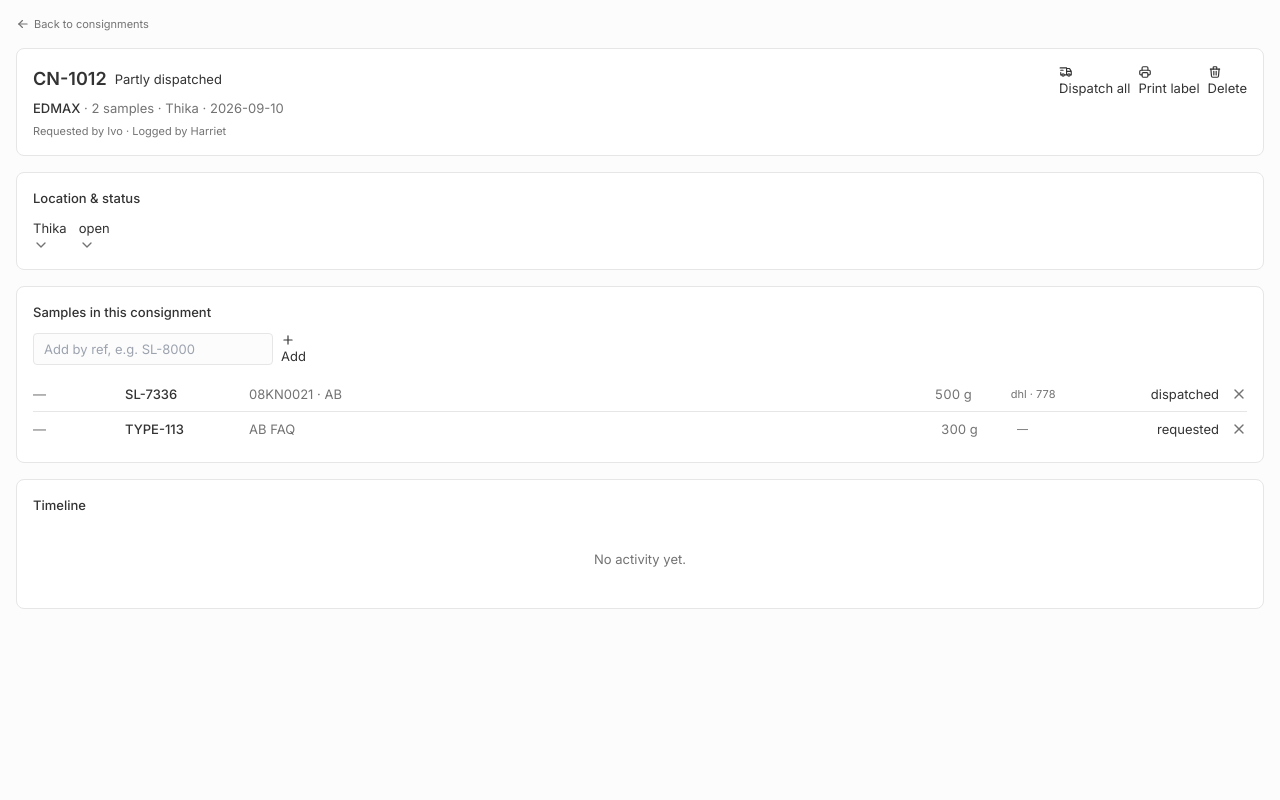
it: a single match is added straight away; no match shows an error
The image size is (1280, 800).
Expected: the heading "CN-1012" is shown, [33, 65, 107, 93]
Type "SL-8000" into the field with placeholder "Add by ref, e.g. SL-8000". click: (153, 349)
box: [33, 333, 273, 365]
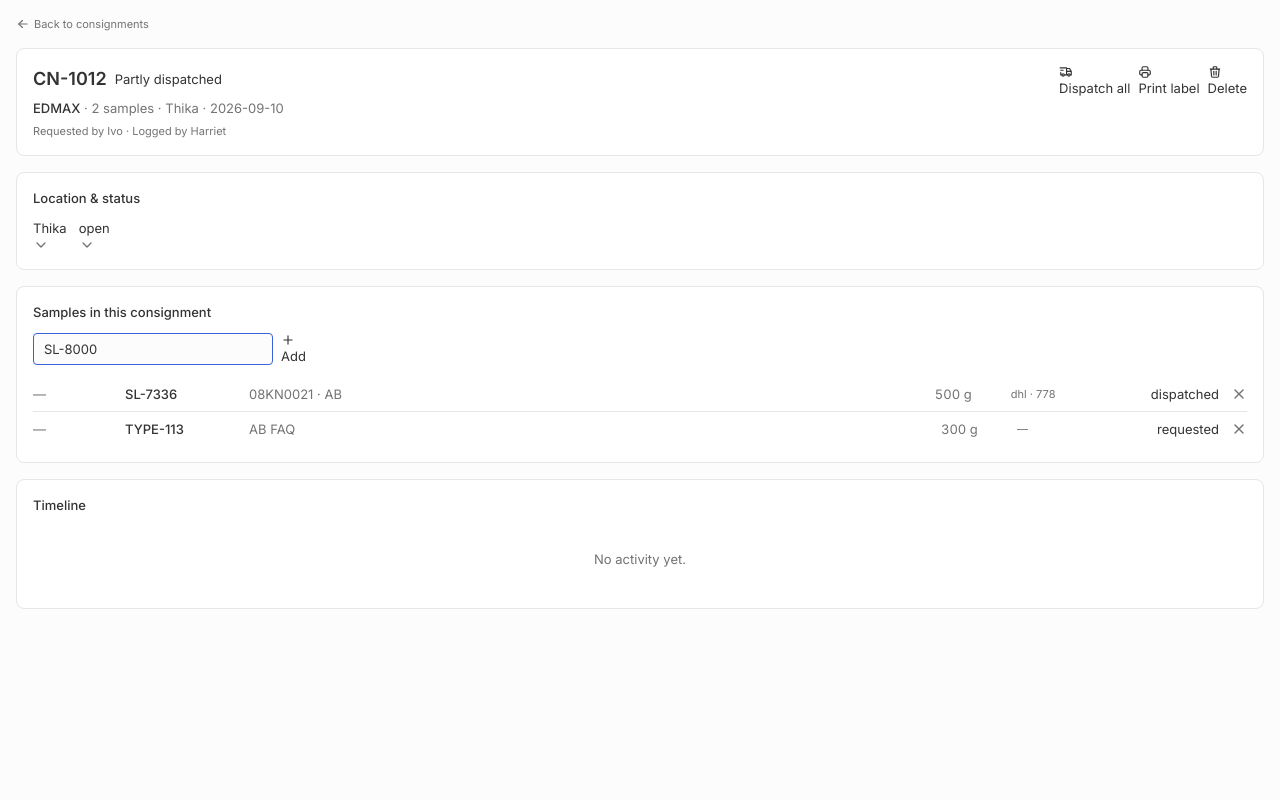
Click the button "Add". click: click(293, 349)
box: [281, 333, 306, 365]
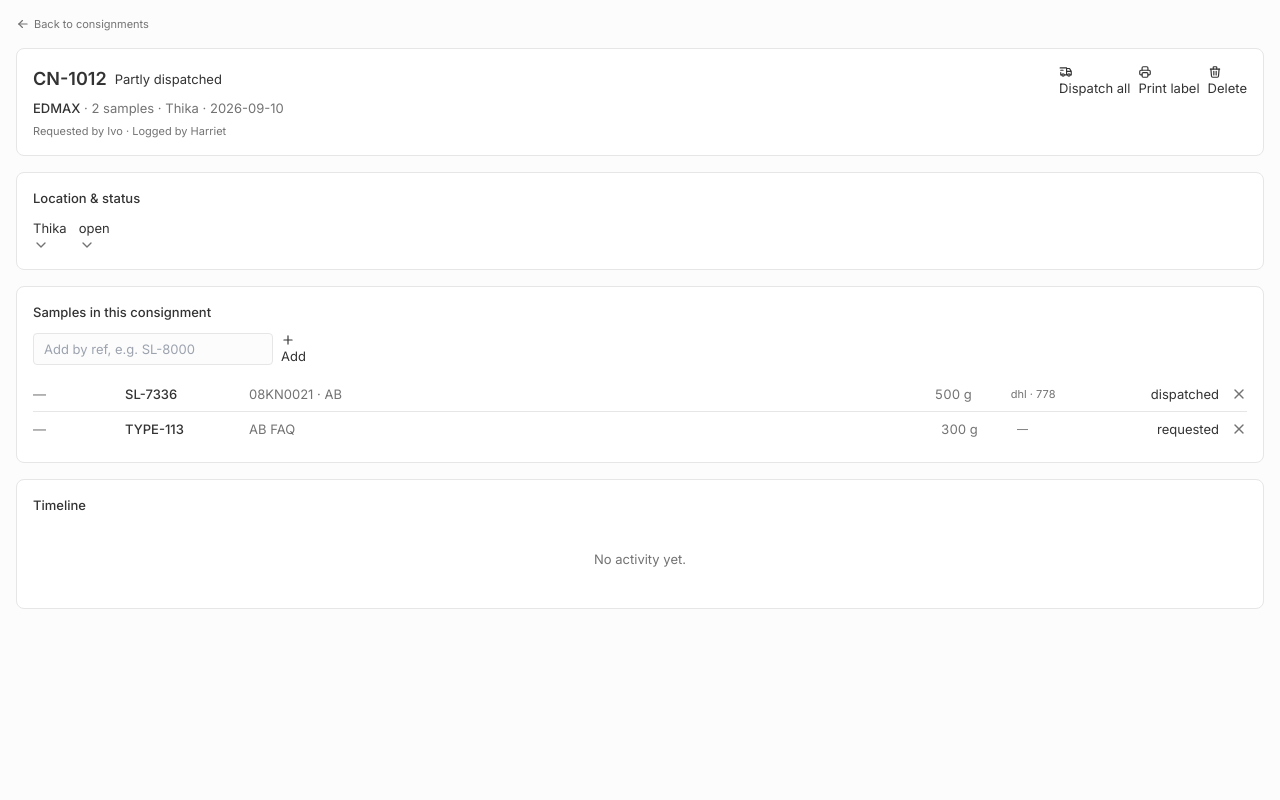
Type "SL-1" into the field with placeholder "Add by ref, e.g. SL-8000". click: (153, 349)
box: [33, 333, 273, 365]
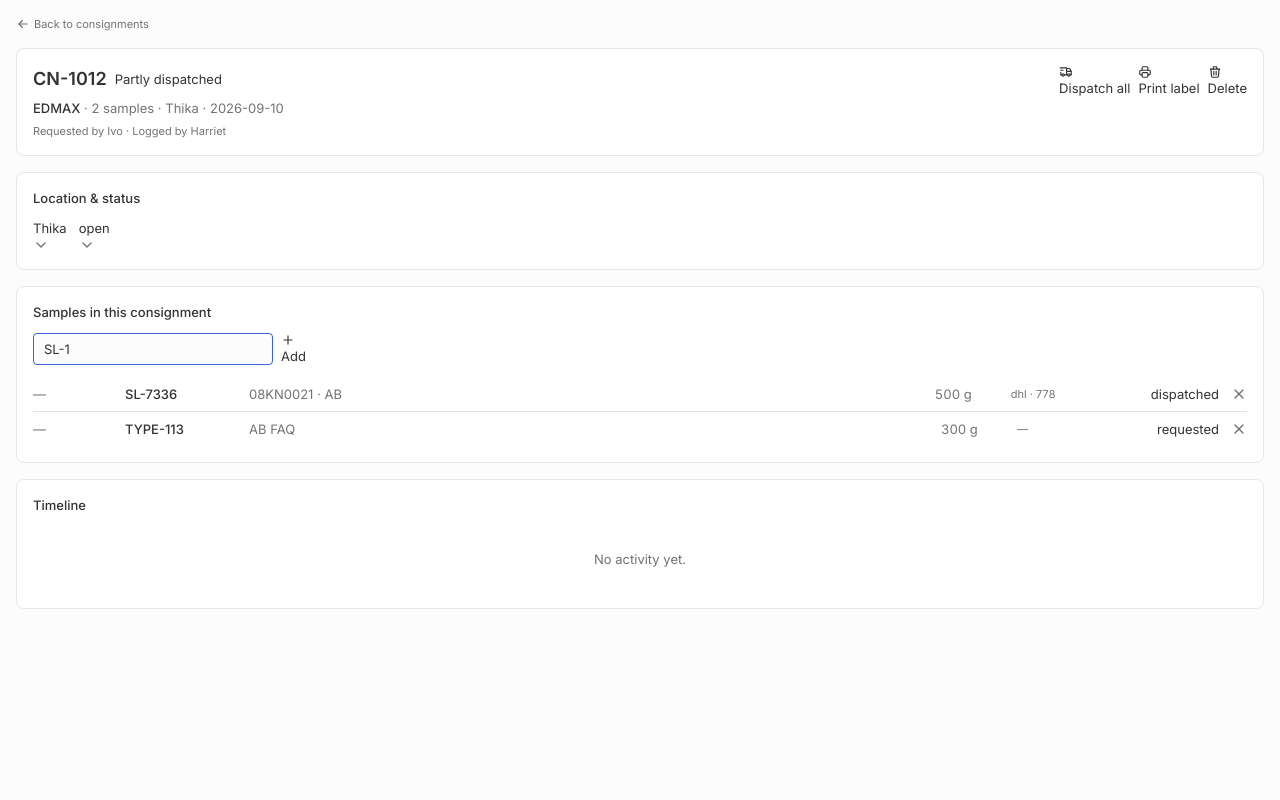
Click the button "Add". click: click(293, 349)
box: [281, 333, 306, 365]
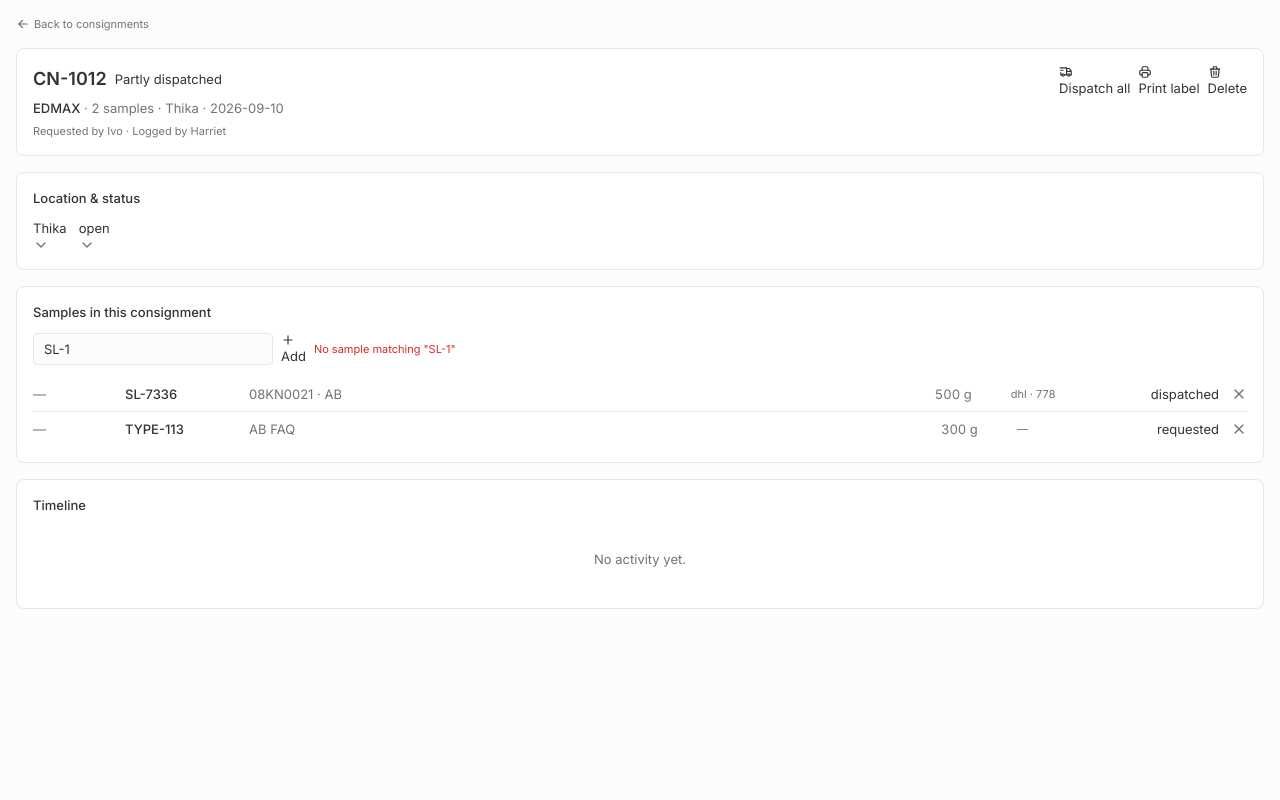
Expected: the text "No sample matching \"SL-1\"" is shown, [314, 341, 456, 357]
